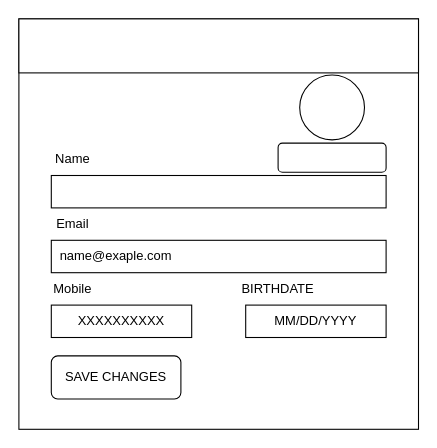
Image size: 437x448. Some labels were removed from this diagram. The centre of each missing label's shape, as x and y in pixels:
"PATIENT DETAILS" belongs at (x=218, y=45).
"UPLOAD IMAGE" belongs at (x=331, y=157).
